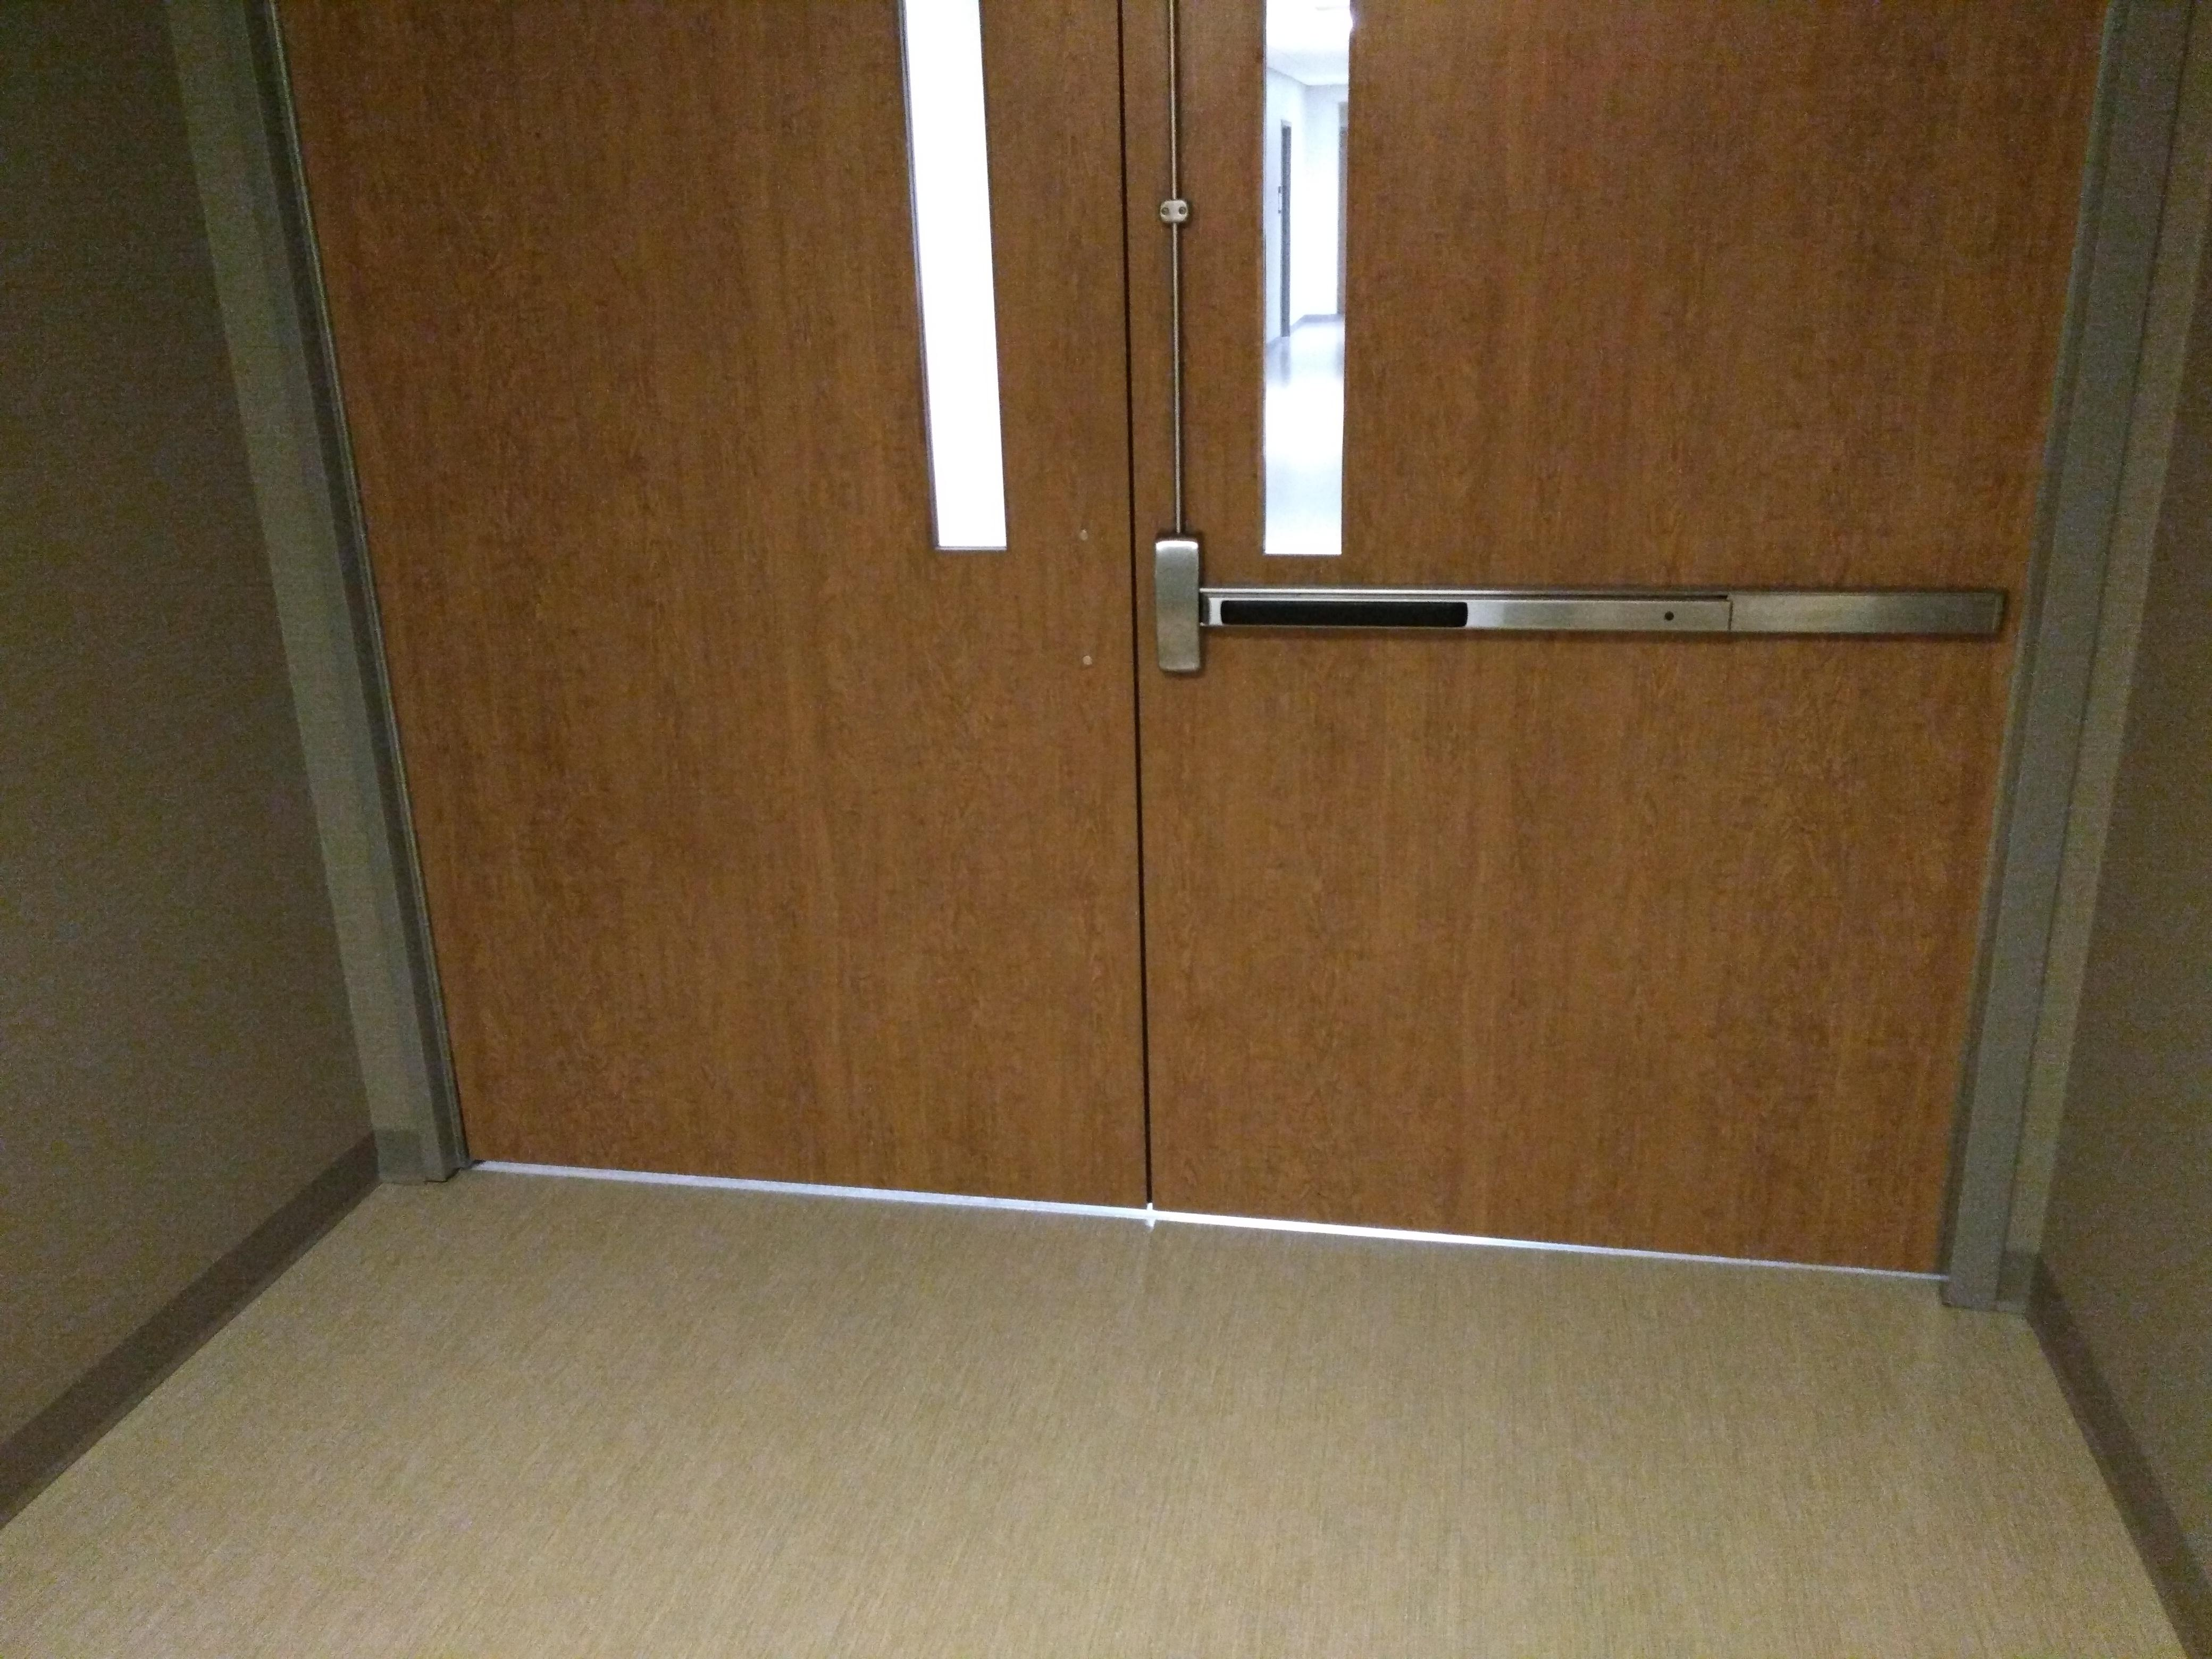door: (212, 0, 1982, 1277)
